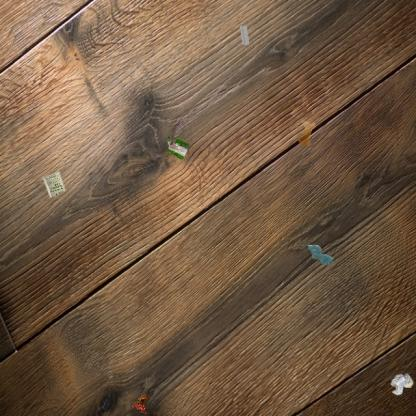dirty: (41, 169, 68, 200), (164, 134, 192, 162), (390, 371, 416, 397), (130, 392, 151, 416), (240, 25, 249, 45)
liquid: (307, 243, 335, 267), (296, 116, 316, 147)
